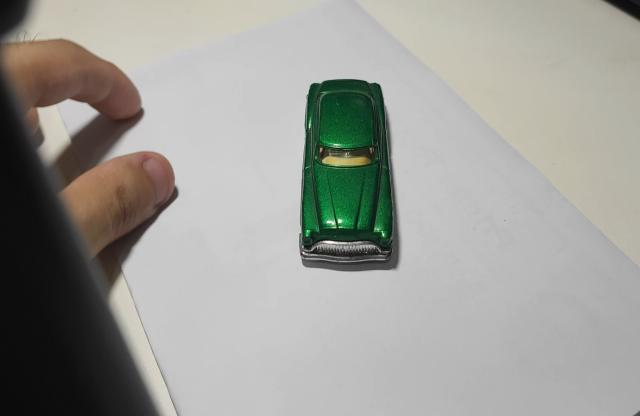06_MASERATI: (299, 79, 399, 272)
